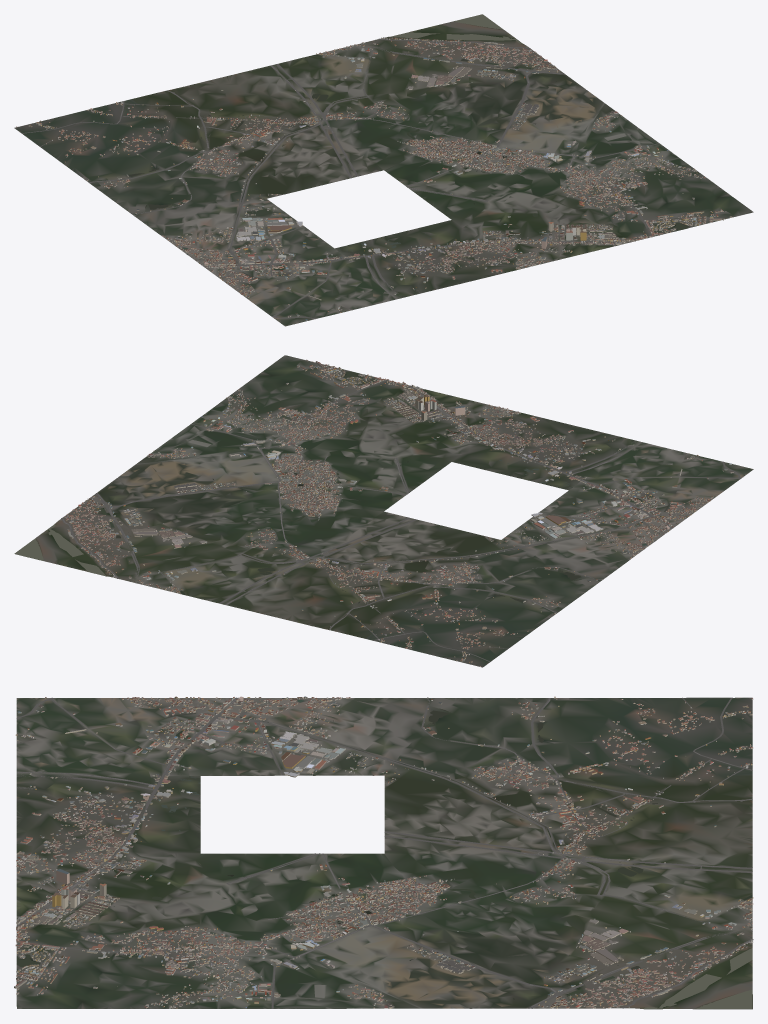
3 views of the same model, one above another, from view 1: azimuth 30°, elevation 25°; view 2: azimuth 150°, elevation 25°; view 3: azimuth 270°, elevation 25° (orthographic). The views are drawn at different scales.
Parts seen in each view (by area): view 1: ground, buildings, roads, water; view 2: ground, buildings, roads, water; view 3: ground, buildings, roads, water.
Part boxes in pixels (x1,y1,x2,y2): ground: (14,21,753,326); buildings: (16,37,732,320); roads: (21,38,705,319); water: (127,14,688,306); ground: (23,355,753,667); buildings: (60,359,743,666); roads: (61,380,741,662); water: (14,371,681,627); ground: (16,697,752,1009); buildings: (14,696,753,1008); roads: (16,697,753,1008); water: (17,698,752,1008).
Bounding box in the file's own units: 5612 × 97.73 × 5637.
